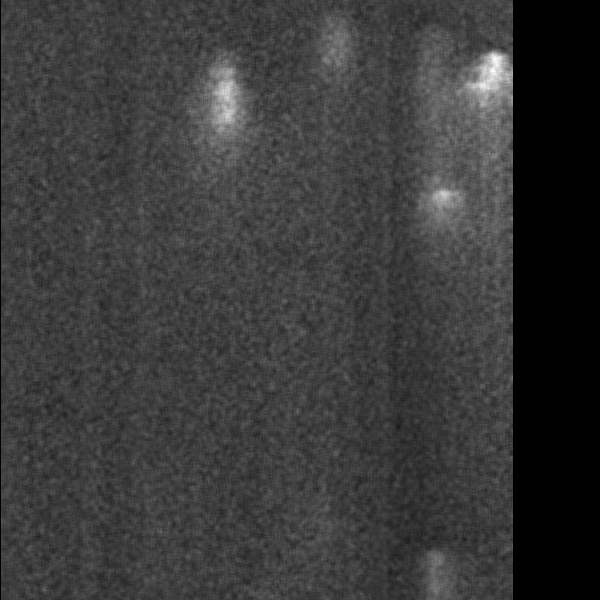spark: (201, 48, 248, 201), (473, 44, 511, 213), (314, 12, 356, 111), (416, 184, 477, 224), (417, 550, 449, 572)
